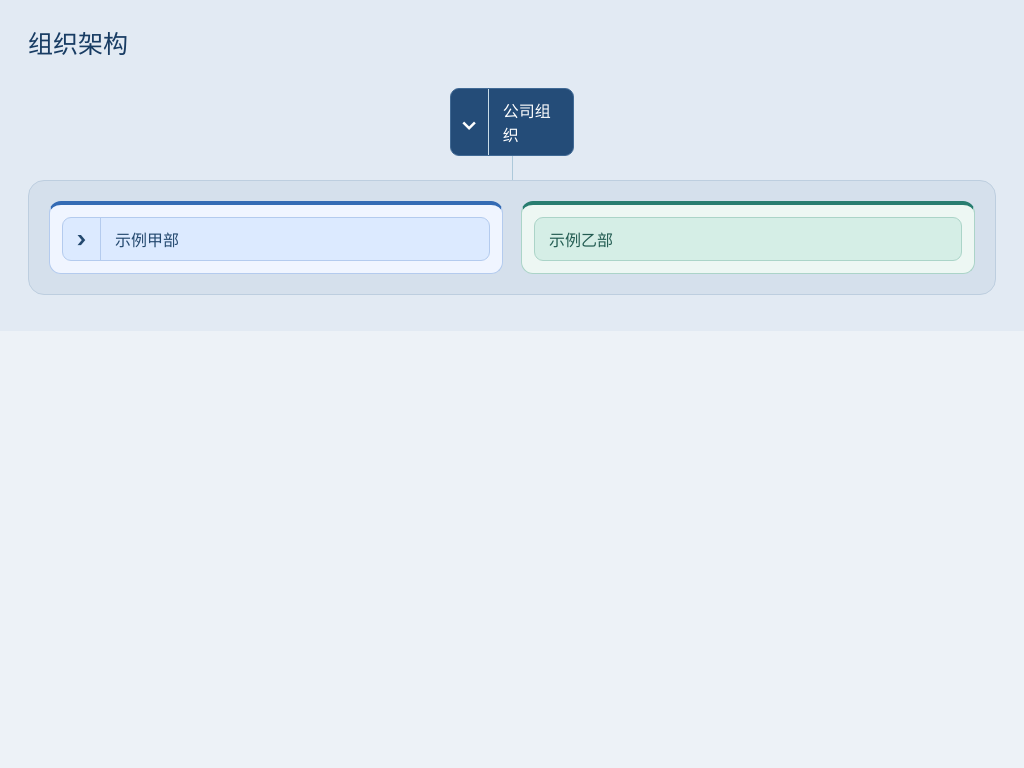
it: loads only when active, shows every first level and separates expansion from lazy details
Click the button "›" at (82, 239), box [63,218,101,260]
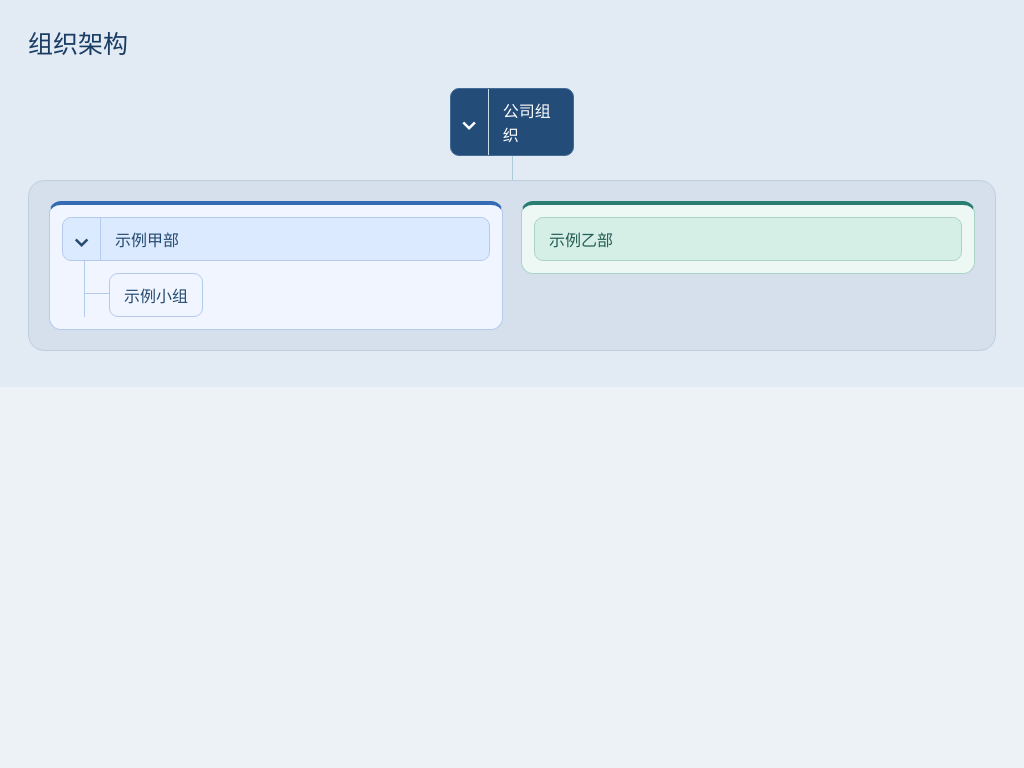
Check: the text "示例小组" is shown, box [110,274,202,316]
Click the button "示例甲部" at (147, 240), box [101,218,489,260]
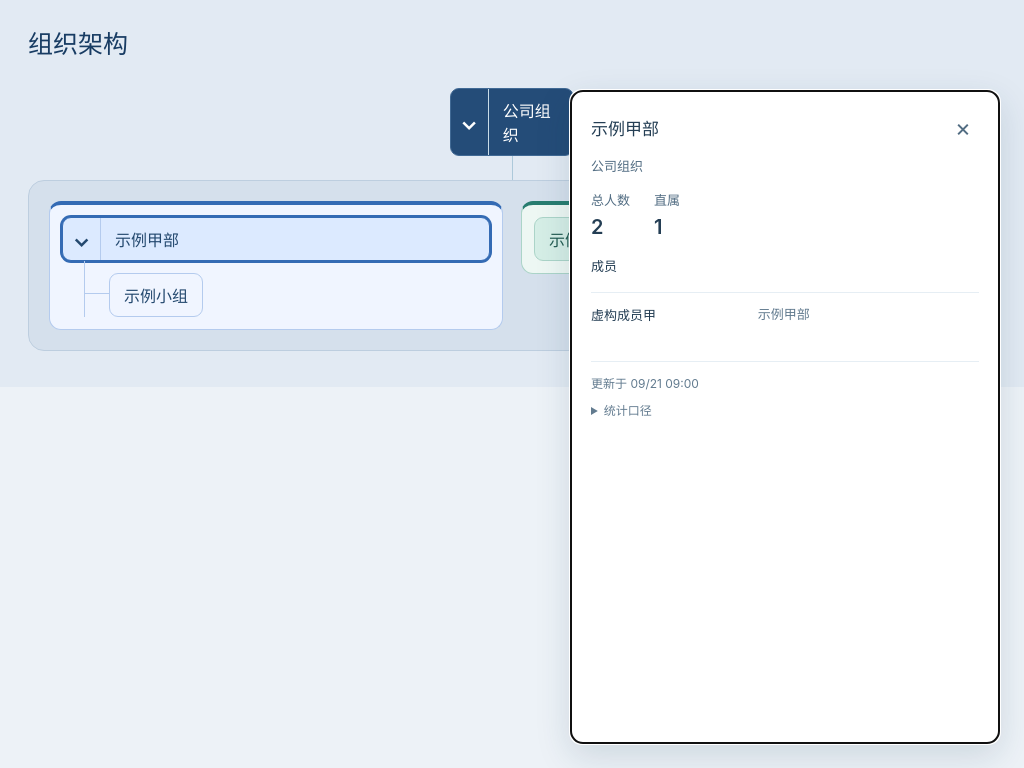
Check: the element named "部门详情" shows "虚构成员甲", box [591,307,656,323]
Check: the text with class "organization-path" reads "公司组织", box [591,158,643,174]
Check: the element with class "organization-counts" shows "总人数", box [591,192,630,208]
